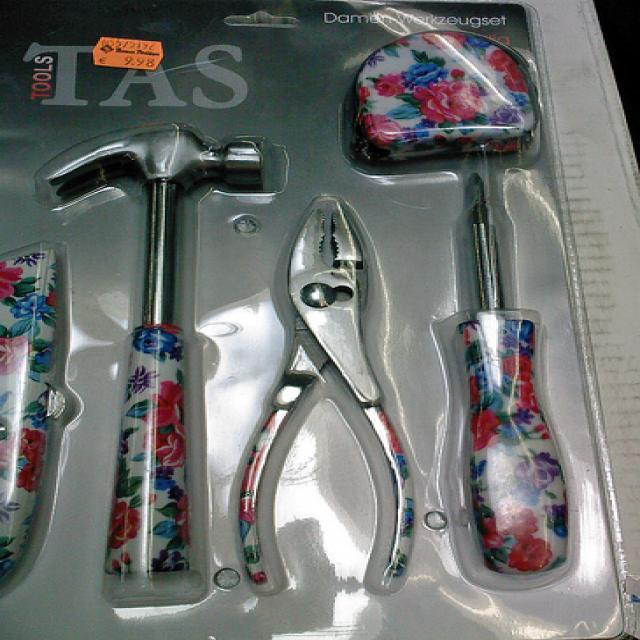hammer: (37, 118, 284, 581)
pliers: (229, 198, 431, 600)
screwdriver: (421, 164, 586, 587)
